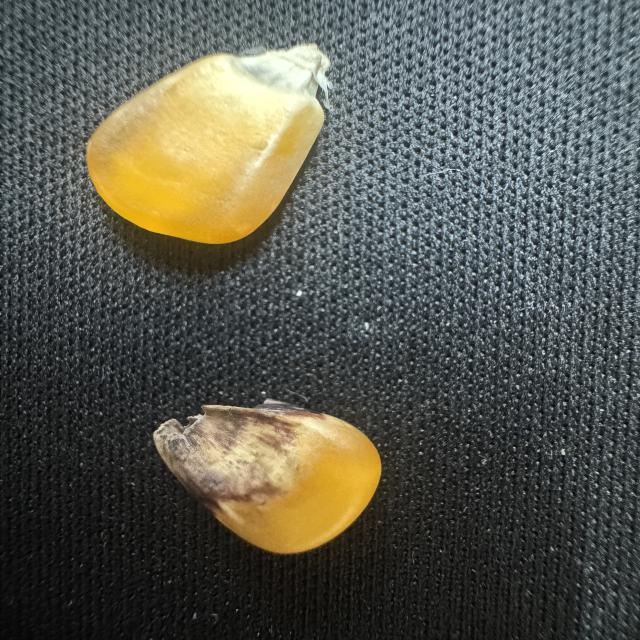Bad-Seed: (141, 395, 390, 563)
Good-Seed: (75, 38, 338, 252)
